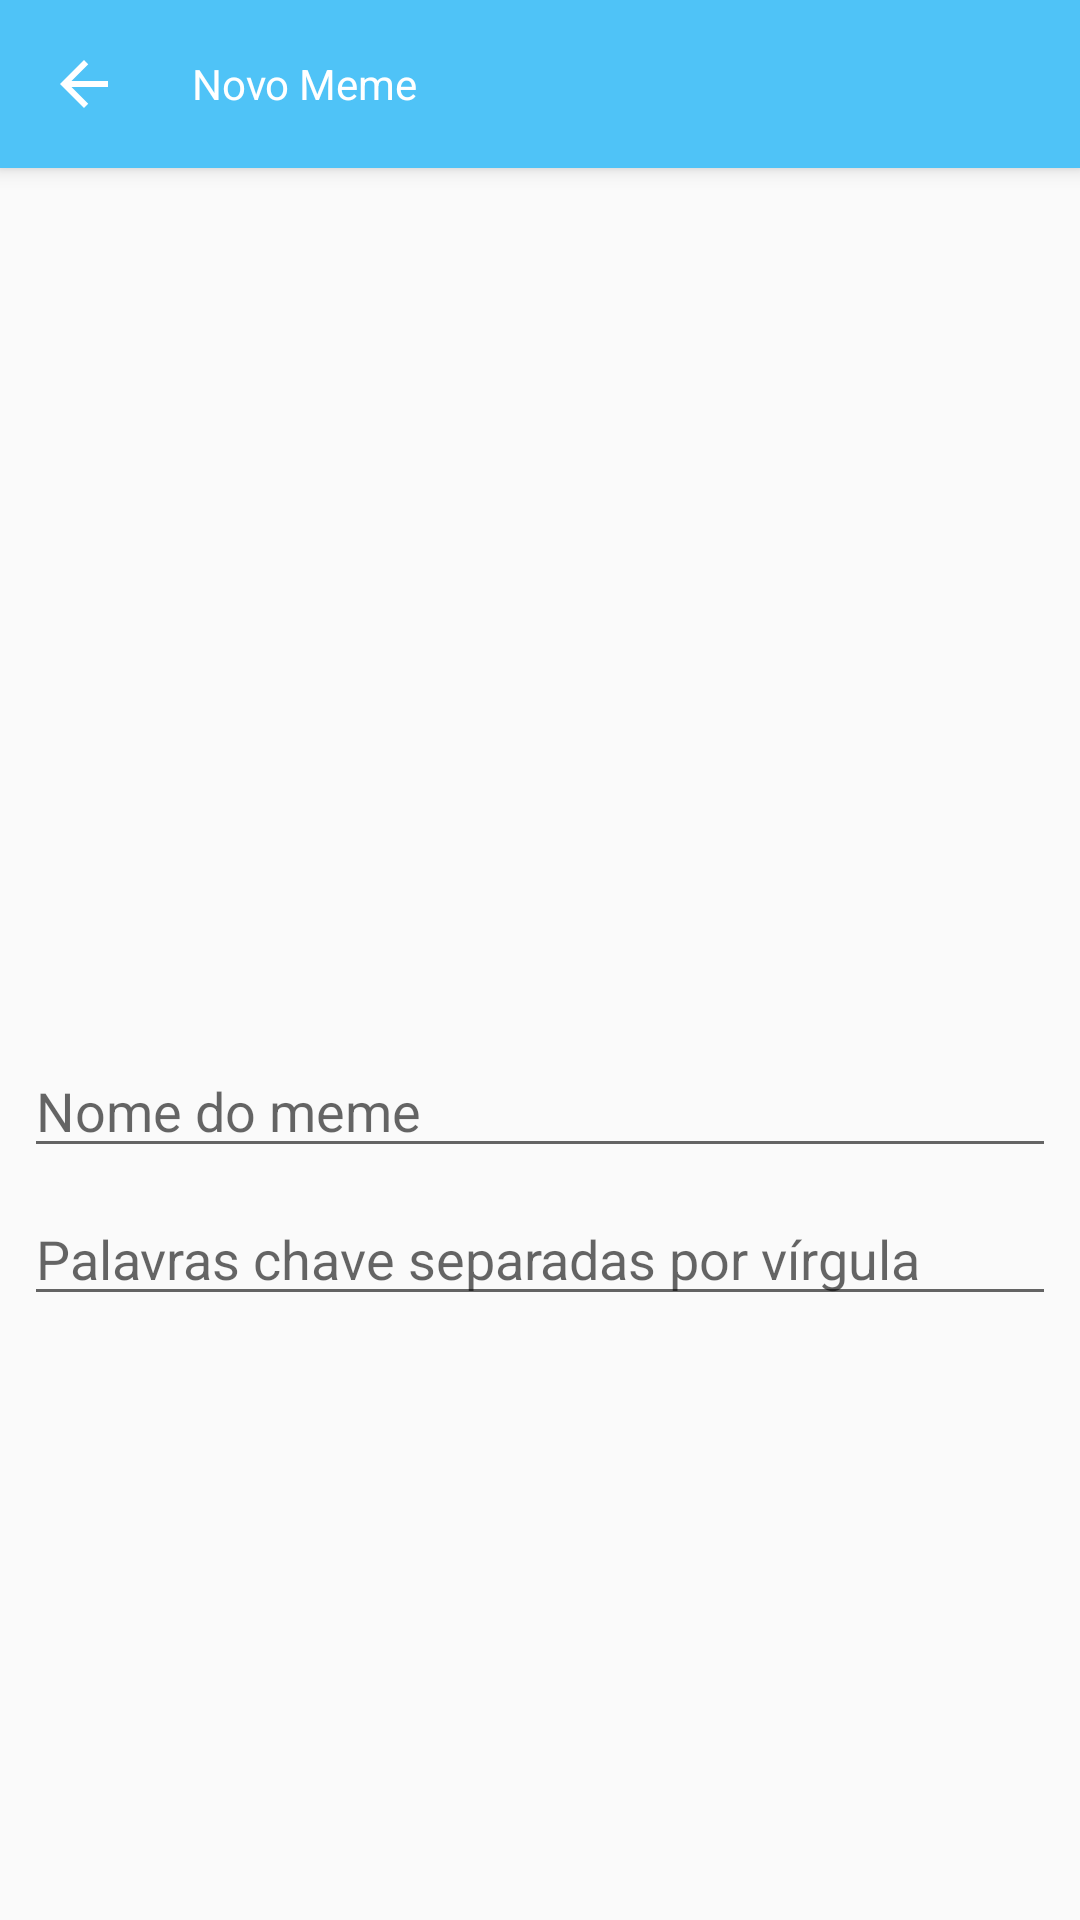

Where to tap for icons on this 1080x1920 app screen, as (x=x, y=y):
Voltar: (x=84, y=84)
